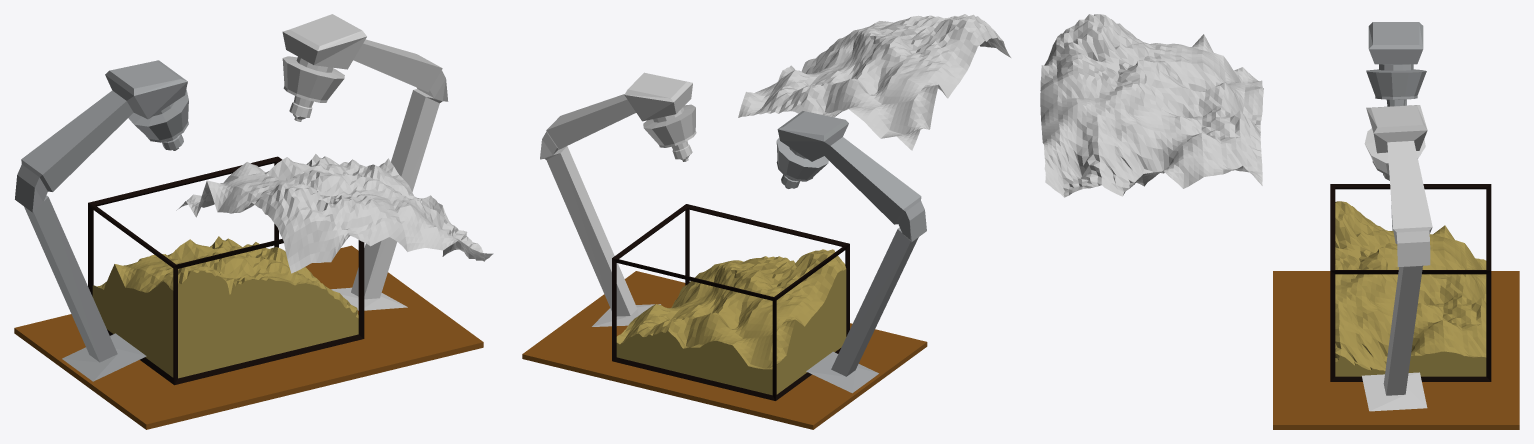
Rendered from micro-realité_ivan_Version 2.obj.
3 renders of one model, left to right at view 1: azimuth 30°, elevation 25°; view 2: azimuth 150°, elevation 25°; view 3: azimuth 270°, elevation 25°, orthographic. The views are drawn at different scales.
Visible parts, largest first — view 1: Cube.003_Cube.004, Cube, Plane.002, Cube.004_Cube.001, Cube.002_Cube.005, Cube.001_Cube.002; view 2: Cube.003_Cube.004, Plane.002, Cube, Cube.004_Cube.001, Cube.002_Cube.005, Cube.001_Cube.002; view 3: Plane.002, Cube, Cube.003_Cube.004, Cube.002_Cube.005, Cube.001_Cube.002, Cube.004_Cube.001.
Part boxes in pixels (box(x1,y1,x2,y2)): Cube.003_Cube.004: box(92, 236, 358, 378); Cube: box(14, 245, 483, 429); Plane.002: box(176, 154, 493, 273); Cube.004_Cube.001: box(15, 60, 188, 381); Cube.002_Cube.005: box(282, 14, 448, 310); Cube.001_Cube.002: box(88, 156, 364, 385); Cube.003_Cube.004: box(616, 249, 846, 395); Plane.002: box(738, 14, 1010, 150); Cube: box(522, 271, 927, 429); Cube.004_Cube.001: box(776, 111, 926, 393); Cube.002_Cube.005: box(540, 72, 696, 326); Cube.001_Cube.002: box(612, 204, 849, 400); Plane.002: box(1040, 14, 1263, 197); Cube: box(1273, 271, 1519, 429); Cube.003_Cube.004: box(1335, 201, 1486, 376); Cube.002_Cube.005: box(1362, 105, 1432, 411); Cube.001_Cube.002: box(1330, 184, 1491, 381); Cube.004_Cube.001: box(1366, 22, 1426, 230).
Size of the model in its own units: 3.72 by 2.52 by 3.88.
